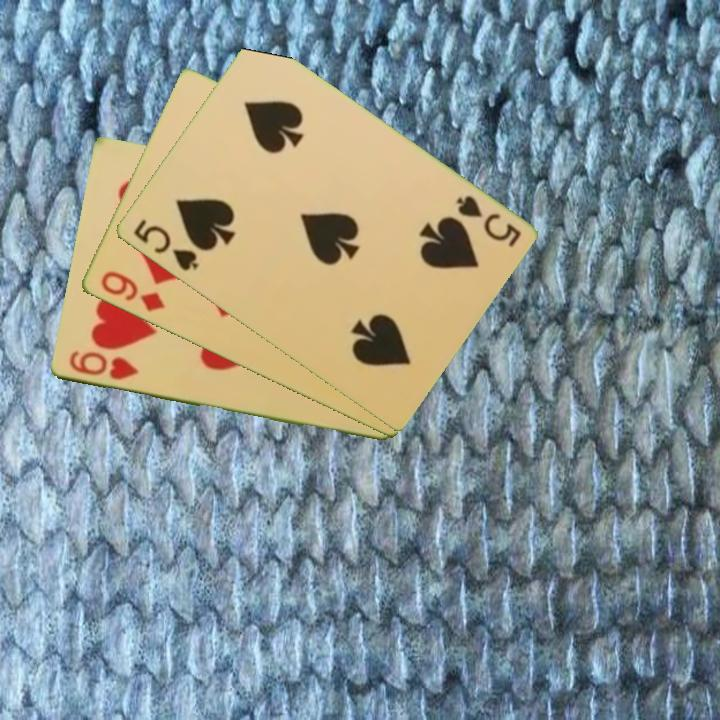5s: (129, 216, 201, 274), (452, 192, 524, 250)
6h: (65, 347, 141, 384)
9d: (96, 267, 167, 315)
